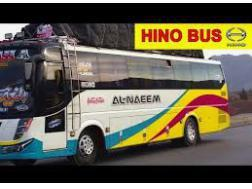bus: (1, 35, 229, 164)
